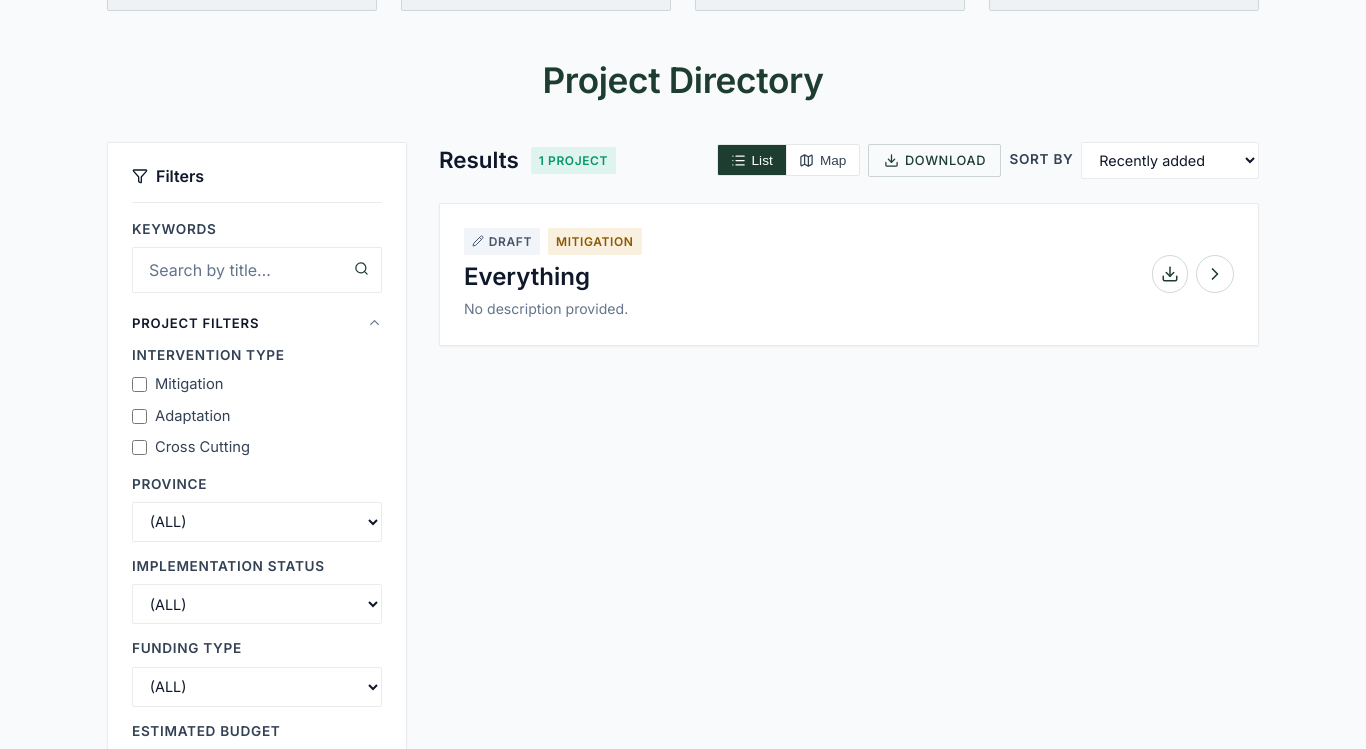
Home filtering › applies filters on change, combining them, and ignores superseded responses
(page scrolled)
Expected: the heading "Everything" is shown, top-left (464, 262), bottom-right (590, 291)
Click the checkbox labelled "Mitigation".
click(140, 385)  # box top-left (132, 377), bottom-right (147, 392)
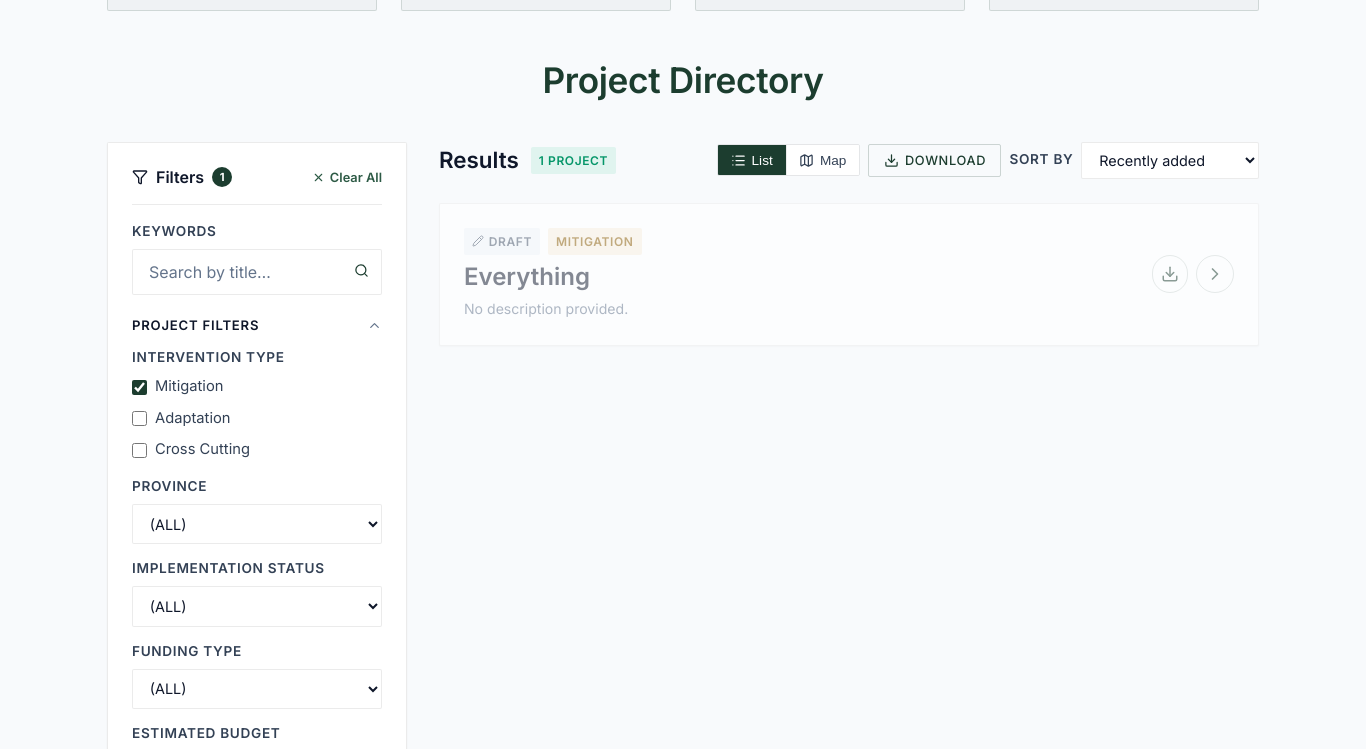
Select "Gauteng" in the dropdown labelled "Province" at (257, 524), box top-left (132, 504), bottom-right (382, 544)
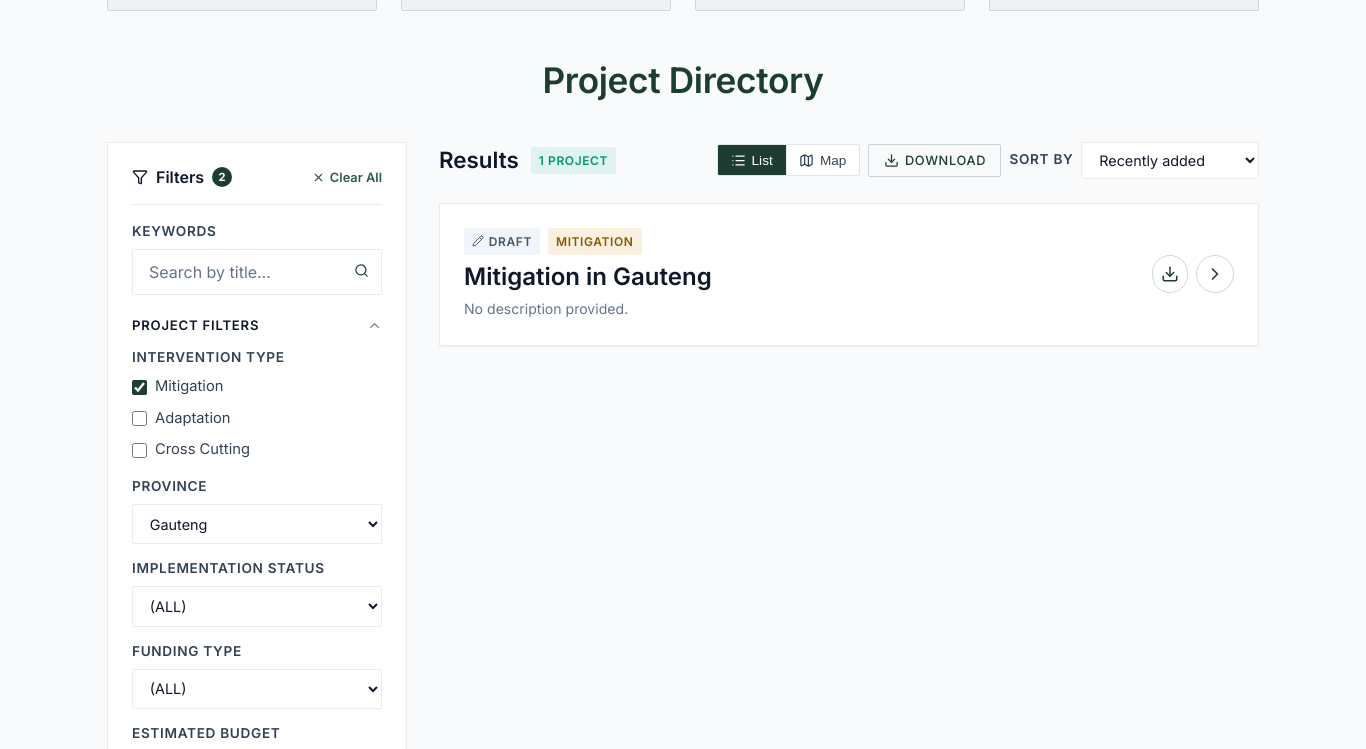
Result: the heading "Mitigation in Gauteng" is shown at top-left (464, 262), bottom-right (712, 291)
